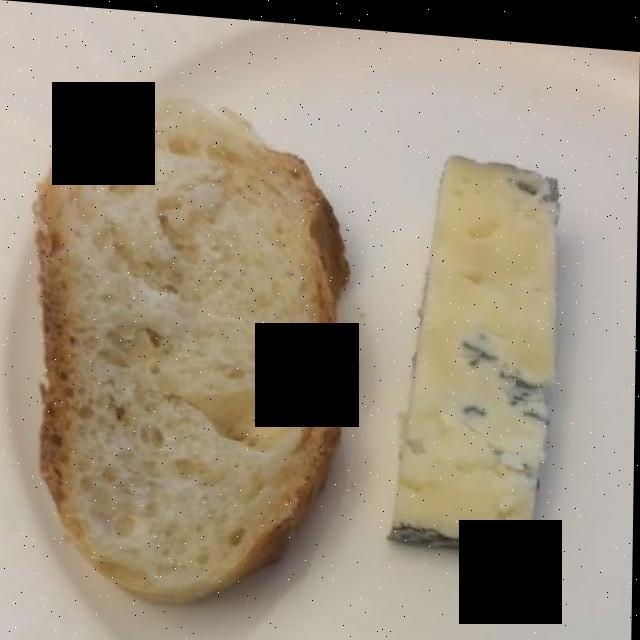bread: (41, 101, 341, 597)
cheese: (396, 151, 560, 534)
